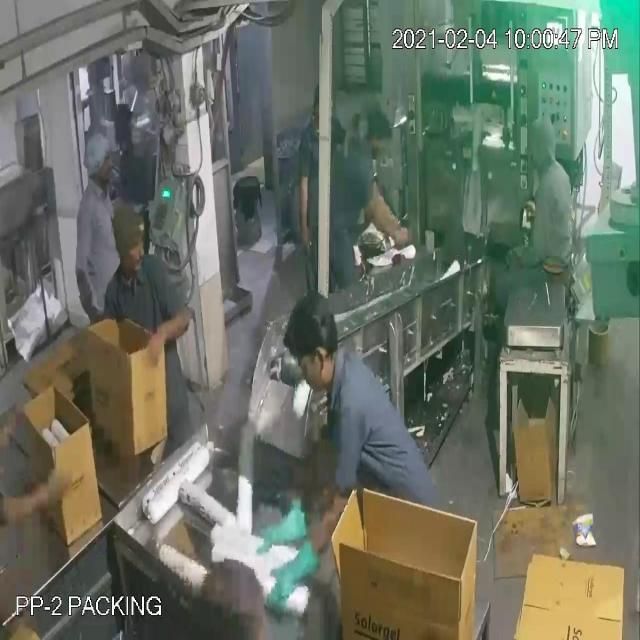No_Gloves: (18, 66, 390, 577)
